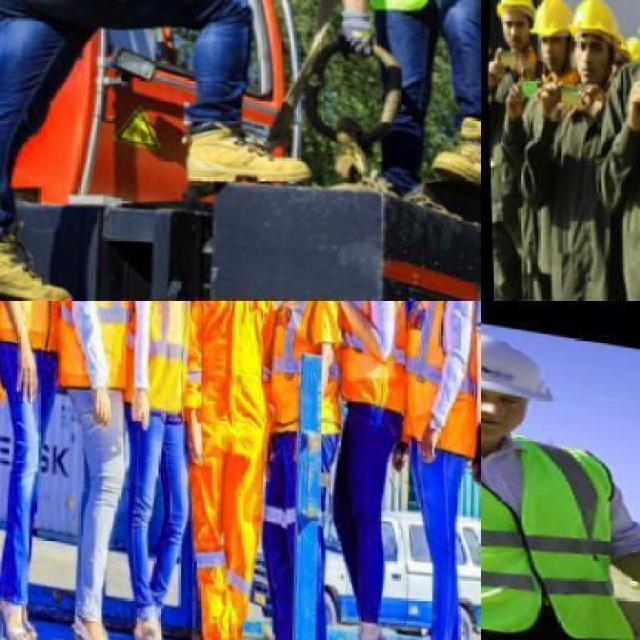Vest: (480, 396, 638, 638), (174, 300, 280, 617), (538, 80, 622, 298), (484, 46, 542, 299), (258, 300, 348, 440), (400, 300, 478, 460), (597, 40, 638, 298), (117, 300, 200, 425), (329, 300, 411, 417), (51, 300, 137, 402), (0, 300, 71, 365)
